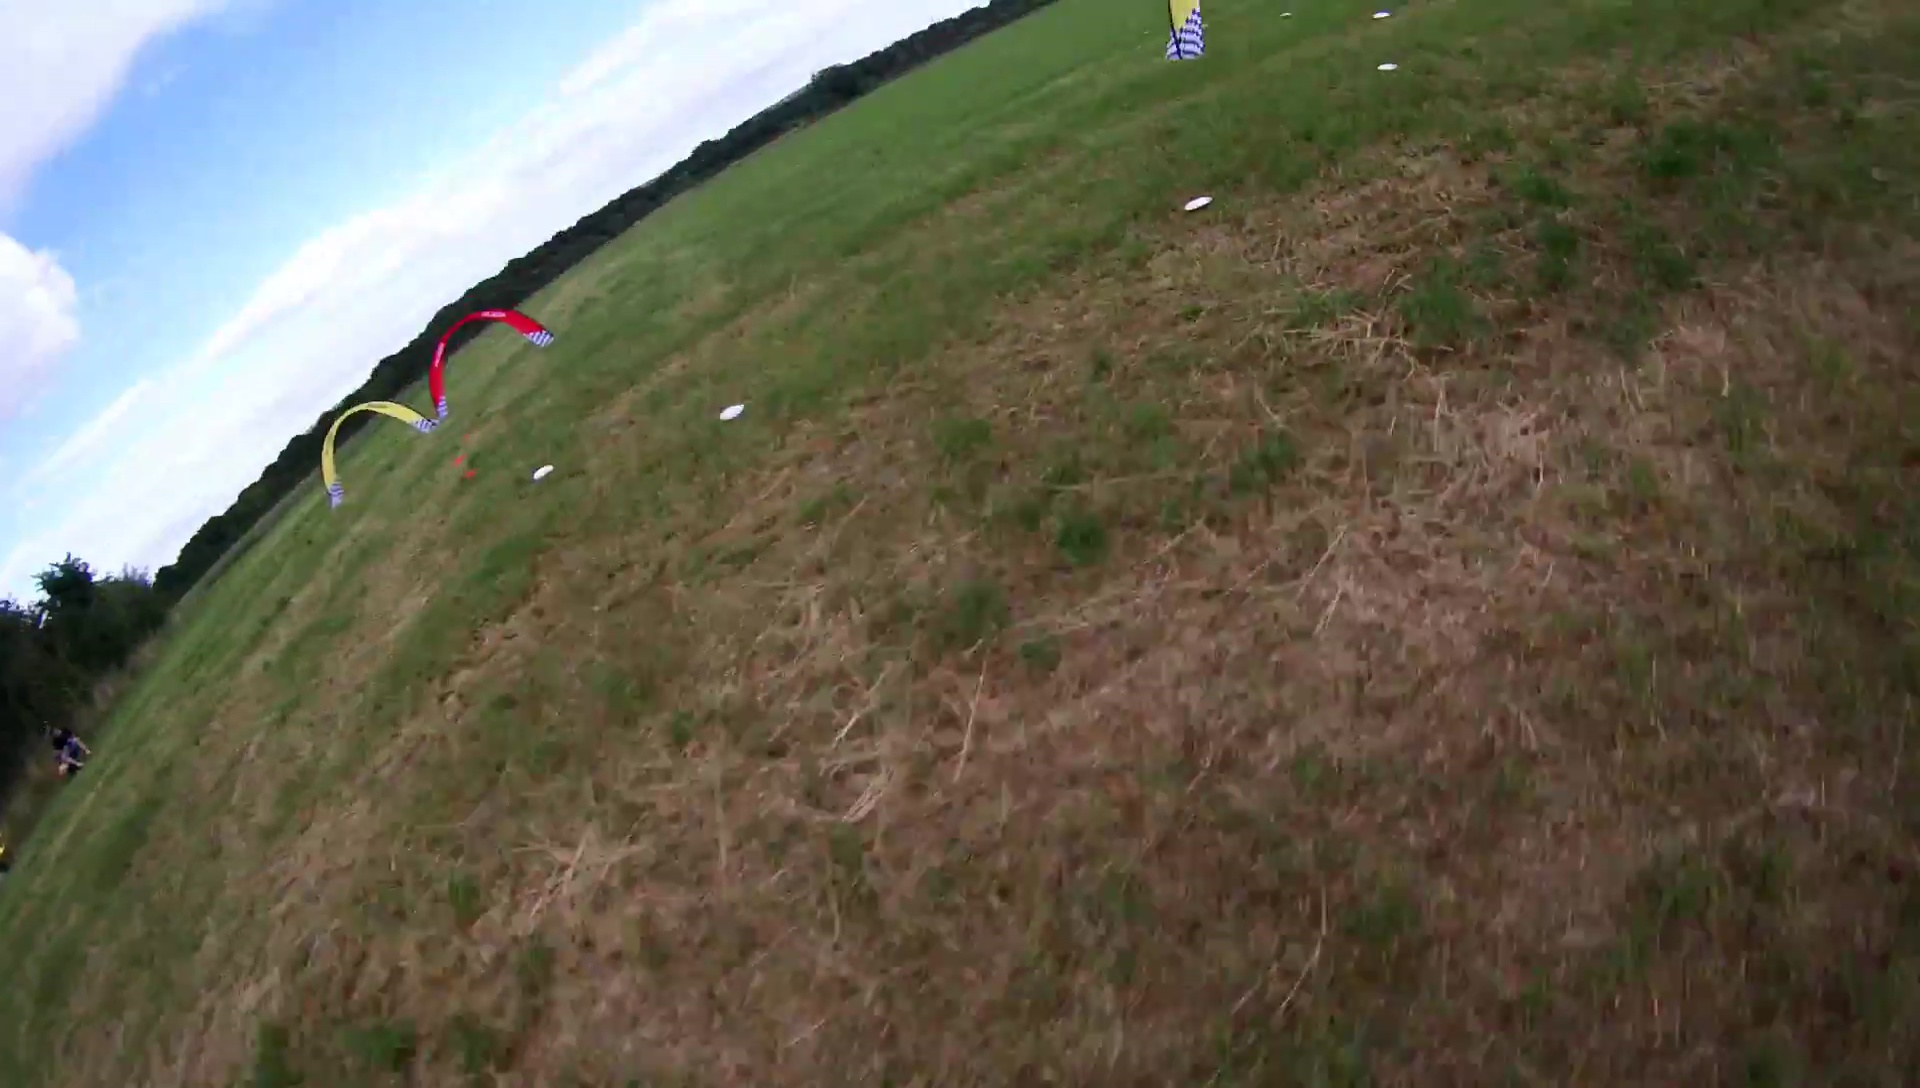gate: (425, 306, 559, 421), (316, 400, 436, 506)
